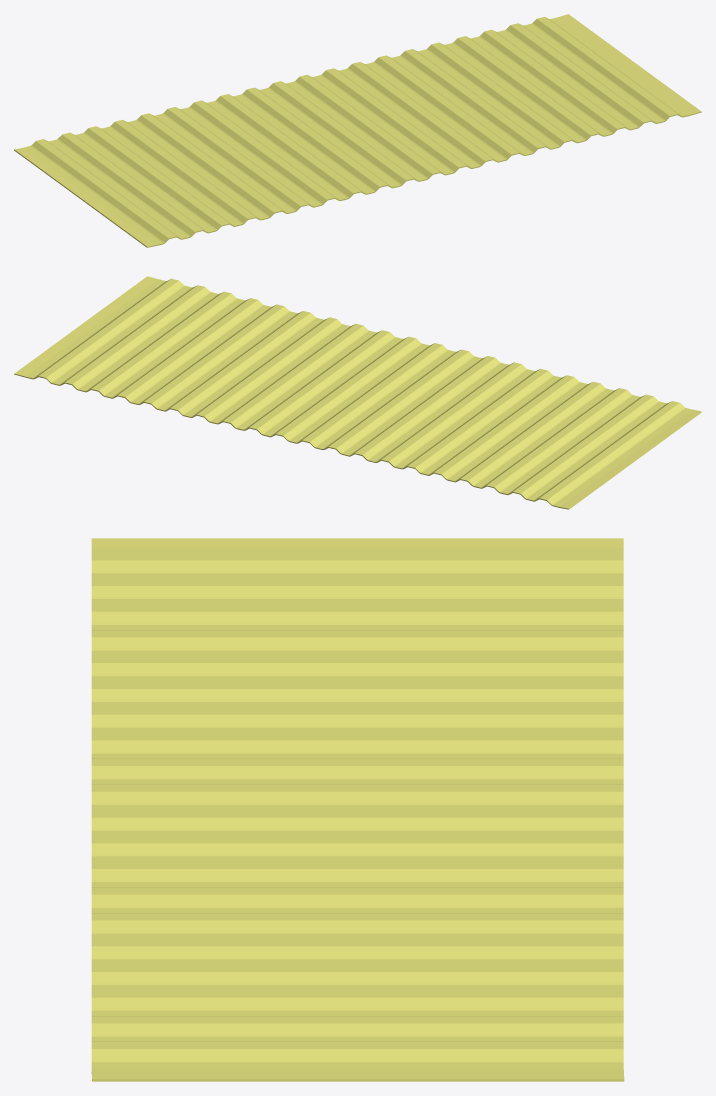
Rendered from ceiling-sprayfoam.glb.
3 renders of one model, top to bottom at view 1: azimuth 30°, elevation 25°; view 2: azimuth 150°, elevation 25°; view 3: azimuth 270°, elevation 25°, orthographic. The views are drawn at different scales.
Parts seen in each view (by area): view 1: 20FT Sprayfoam_Ceiling; view 2: 20FT Sprayfoam_Ceiling; view 3: 20FT Sprayfoam_Ceiling.
Part boxes in pixels (x1,y1,x2,y2): 20FT Sprayfoam_Ceiling: [14, 14, 701, 247]; 20FT Sprayfoam_Ceiling: [14, 276, 701, 509]; 20FT Sprayfoam_Ceiling: [91, 538, 624, 1081].
Bounding box in the file's own units: 5.7 × 0.0463 × 2.37.
